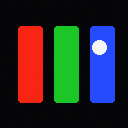2 circle: (92, 40, 106, 54)
